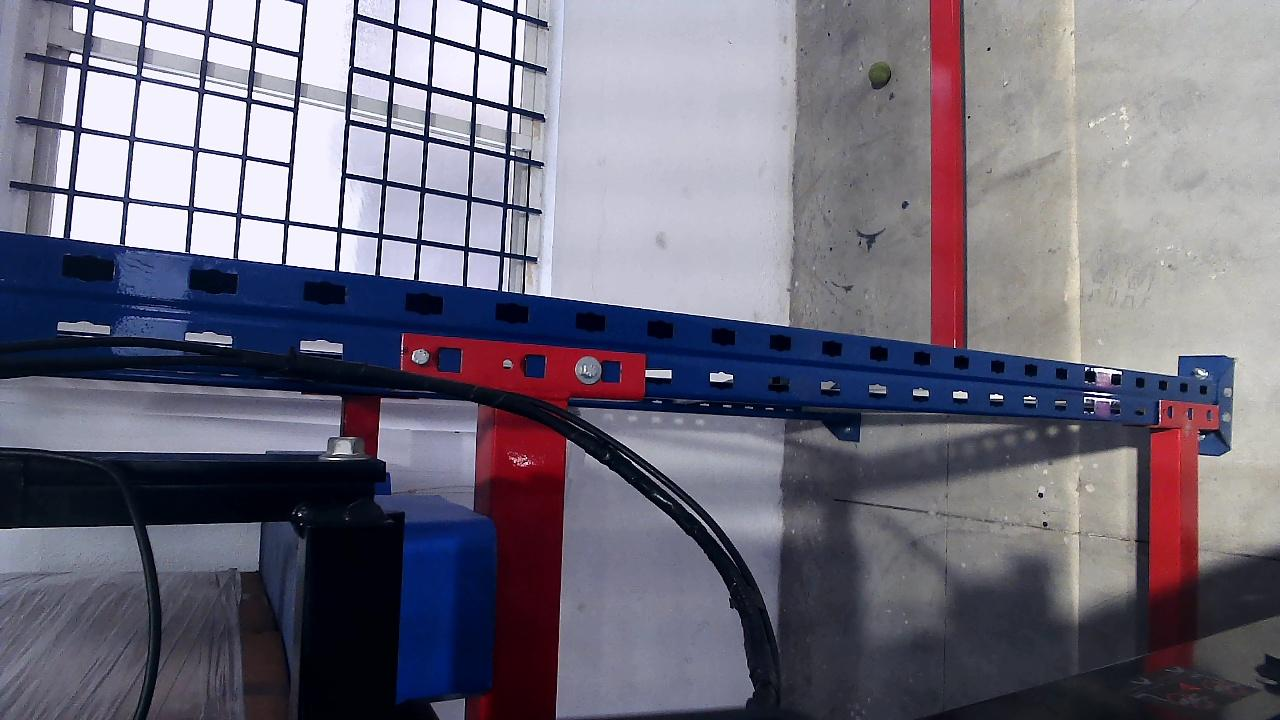h_rack: (486, 400, 565, 719), (930, 2, 967, 348), (1145, 429, 1196, 673)
